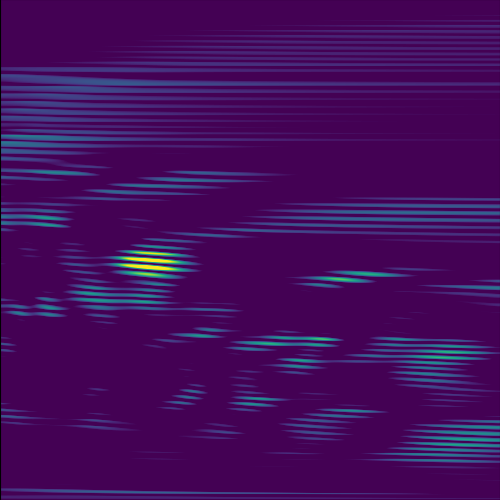semblance: (99, 249, 202, 279)
